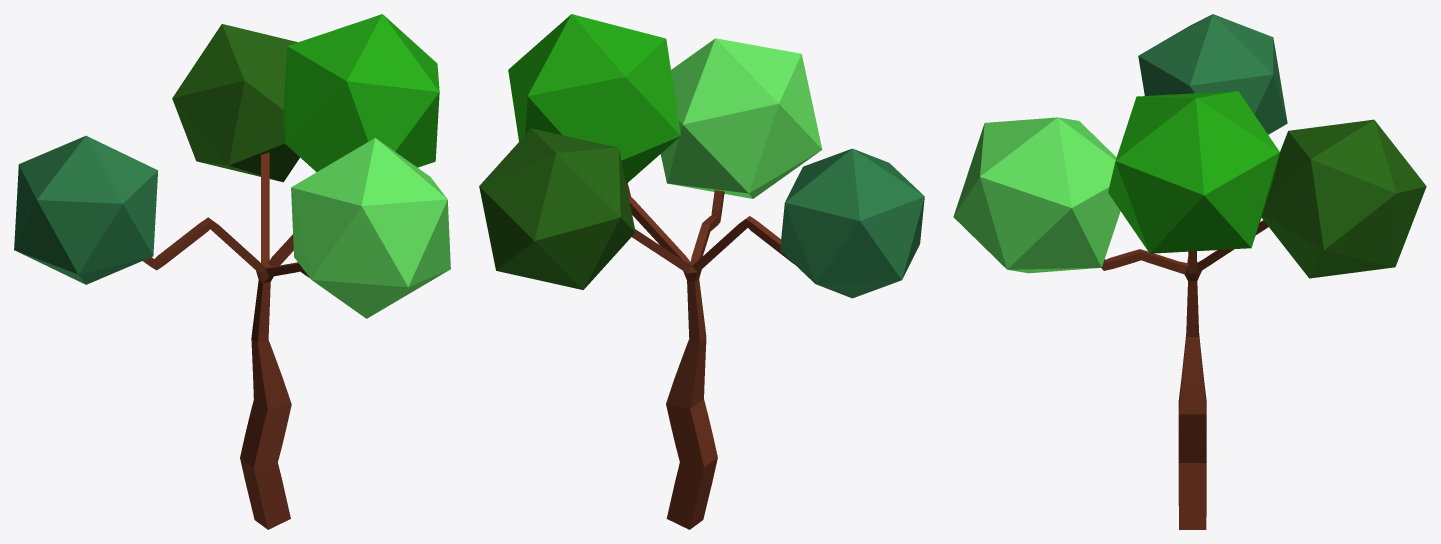
The model's file is Arbol_1.fbx.
3 renders of one model, left to right at view 1: azimuth 30°, elevation 25°; view 2: azimuth 150°, elevation 25°; view 3: azimuth 270°, elevation 25°, orthographic.
Visible parts, largest first — view 1: Arbol_P; view 2: Arbol_P; view 3: Arbol_P.
Boxes of the visible parts, <box> form: Arbol_P: <box>14,14,450,529</box>; Arbol_P: <box>479,14,924,529</box>; Arbol_P: <box>953,14,1426,529</box>.
Size of the model in its own units: 868 by 977 by 861.
